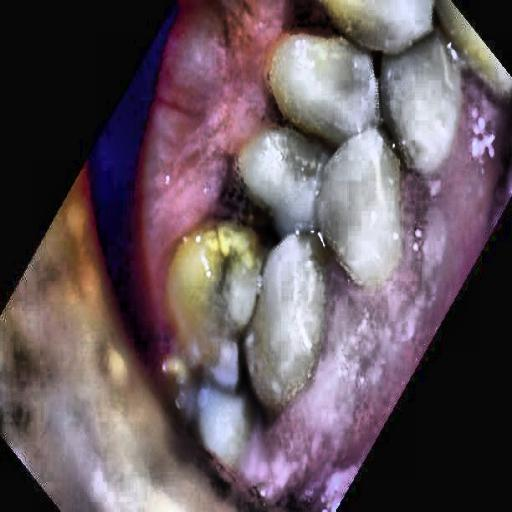Calculus: (158, 22, 430, 313)
